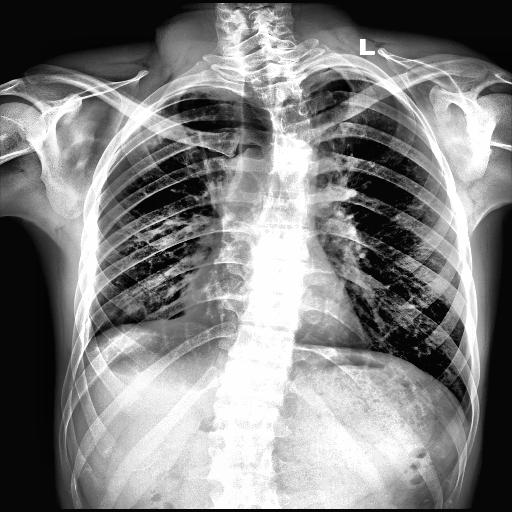11- Pleural thickening: (77, 218, 102, 363)
7- Lung Opacity: (128, 106, 170, 150)
9- Other lesion: (238, 58, 318, 336), (241, 57, 323, 244), (260, 88, 316, 251)
